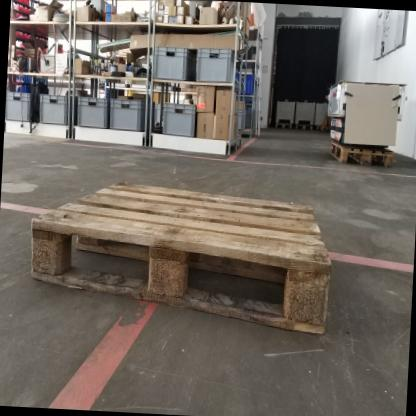BoxFace: (28, 177, 334, 339), (326, 139, 394, 172)
